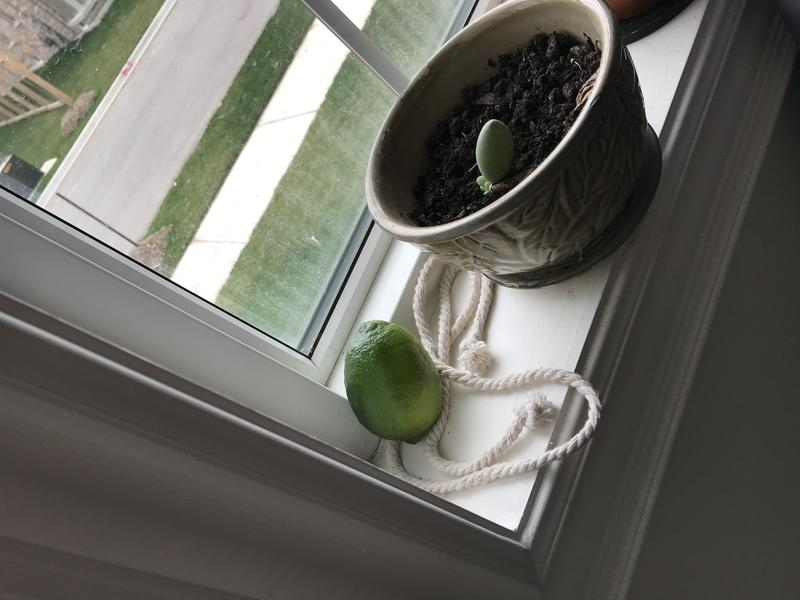lime: (334, 310, 459, 455)
